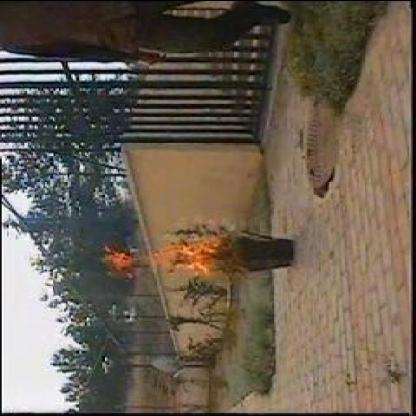foggia-v2-map80-epoch100 - v1 4323: (96, 240, 230, 276)
